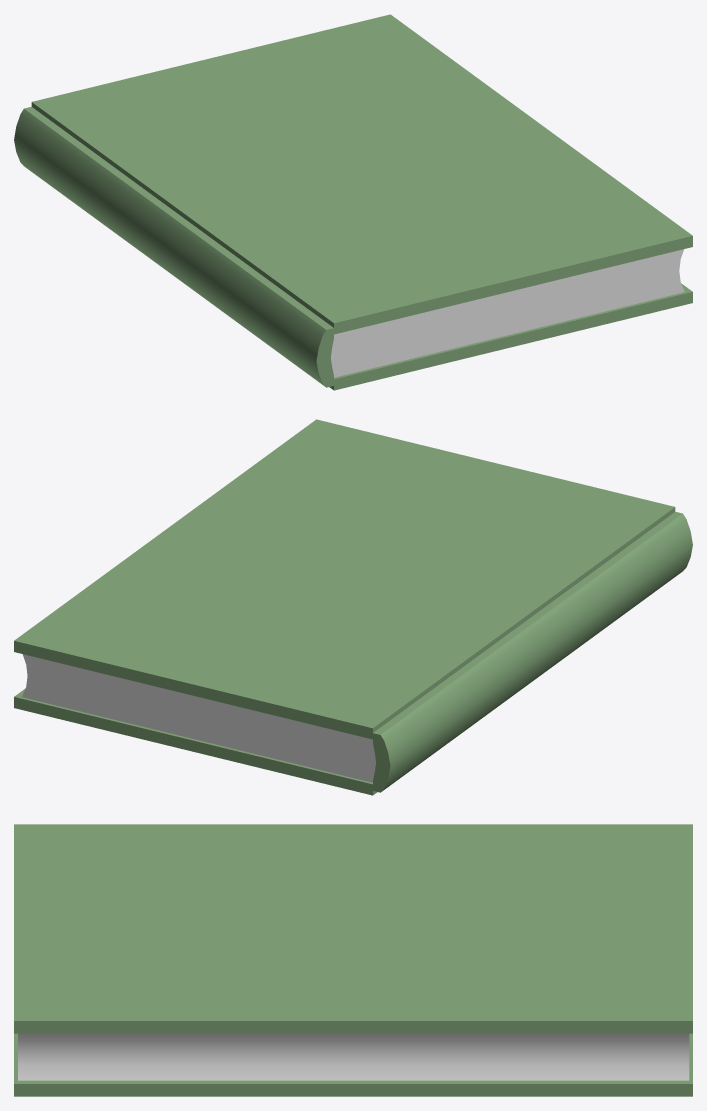
File: PondGreenBook.fbx
3 views of the same model, one above another, from view 1: azimuth 30°, elevation 25°; view 2: azimuth 150°, elevation 25°; view 3: azimuth 270°, elevation 25° (orthographic). The views are drawn at different scales.
Visible parts, largest first — view 1: pCube1.008, pCube1.009; view 2: pCube1.008, pCube1.009; view 3: pCube1.008, pCube1.009.
Boxes of the visible parts, x1,y1,x2,y2 form: pCube1.008: (14, 14, 692, 390); pCube1.009: (331, 249, 684, 377); pCube1.008: (14, 419, 692, 795); pCube1.009: (22, 654, 375, 782); pCube1.008: (14, 824, 692, 1096); pCube1.009: (18, 1033, 689, 1080).
Bounding box in the file's own units: 176 × 30 × 244.
